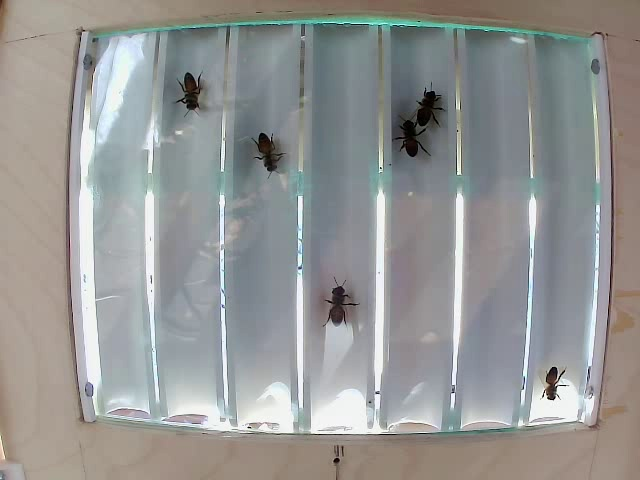bee: (321, 269, 352, 327), (170, 72, 206, 117), (254, 132, 287, 181), (417, 78, 442, 130), (387, 111, 418, 149), (543, 361, 563, 391)
